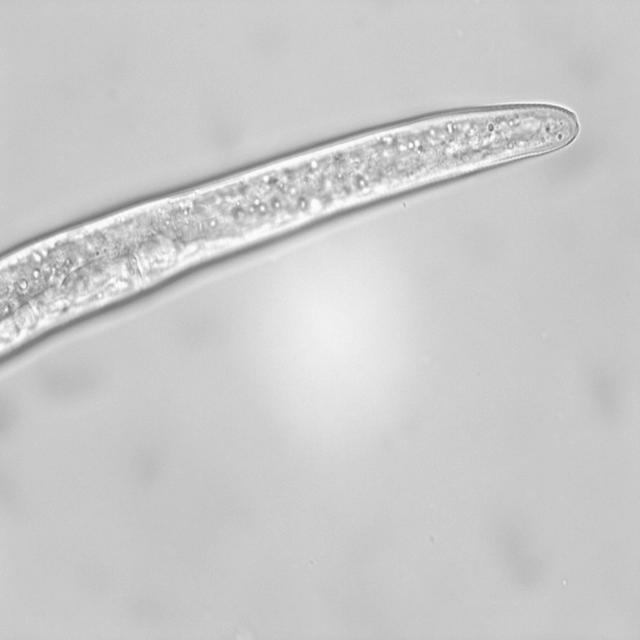Pratylenchus: (0, 89, 586, 355)
